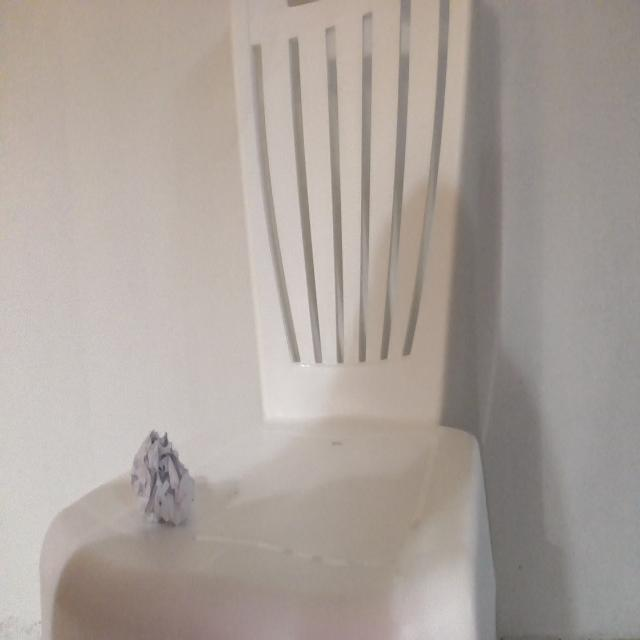crumpled_paper: (128, 424, 198, 531)
